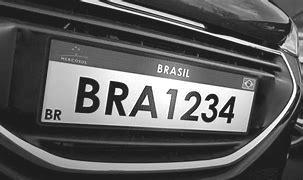placa_mercosul: (40, 41, 256, 131)
